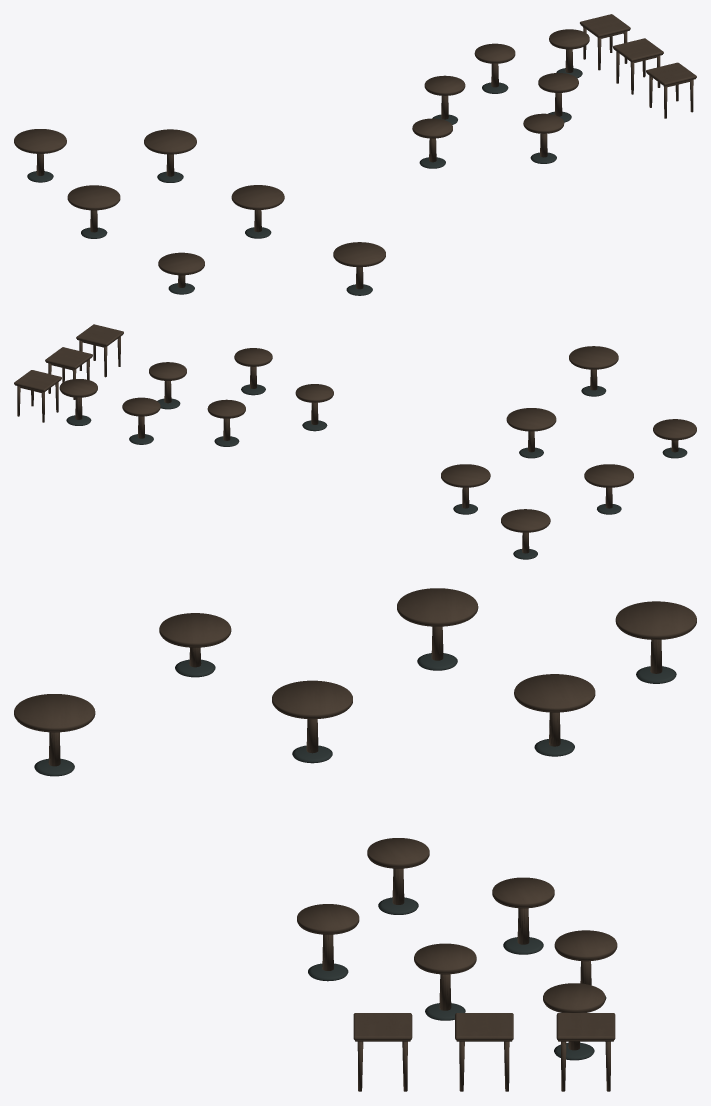
File: atelier_tables_midnight.glb
The picture shows the model from 3 angles, top to bottom: view 1: azimuth 30°, elevation 25°; view 2: azimuth 150°, elevation 25°; view 3: azimuth 270°, elevation 25°; orthographic projection. The views are drawn at different scales.
Parts seen in each view (by area): view 1: atelier_tables_midnight / Atelier / honey ash, atelier_tables_midnight / Atelier / smoked oak, atelier_tables_midnight / Atelier / charcoal powder coat; view 2: atelier_tables_midnight / Atelier / honey ash, atelier_tables_midnight / Atelier / smoked oak, atelier_tables_midnight / Atelier / charcoal powder coat; view 3: atelier_tables_midnight / Atelier / honey ash, atelier_tables_midnight / Atelier / smoked oak, atelier_tables_midnight / Atelier / charcoal powder coat.
Part boxes in pixels (x1,y1,x2,y2): atelier_tables_midnight / Atelier / honey ash: [14, 14, 696, 274]; atelier_tables_midnight / Atelier / smoked oak: [36, 27, 693, 289]; atelier_tables_midnight / Atelier / charcoal powder coat: [27, 68, 582, 295]; atelier_tables_midnight / Atelier / honey ash: [14, 324, 696, 532]; atelier_tables_midnight / Atelier / smoked oak: [17, 336, 678, 553]; atelier_tables_midnight / Atelier / charcoal powder coat: [66, 384, 687, 559]; atelier_tables_midnight / Atelier / honey ash: [14, 588, 696, 1040]; atelier_tables_midnight / Atelier / smoked oak: [48, 626, 662, 1091]; atelier_tables_midnight / Atelier / charcoal powder coat: [34, 653, 676, 1060].
Size of the model in its own units: 13.59 by 0.8105 by 8.74.
2 materials, 1 textured.
